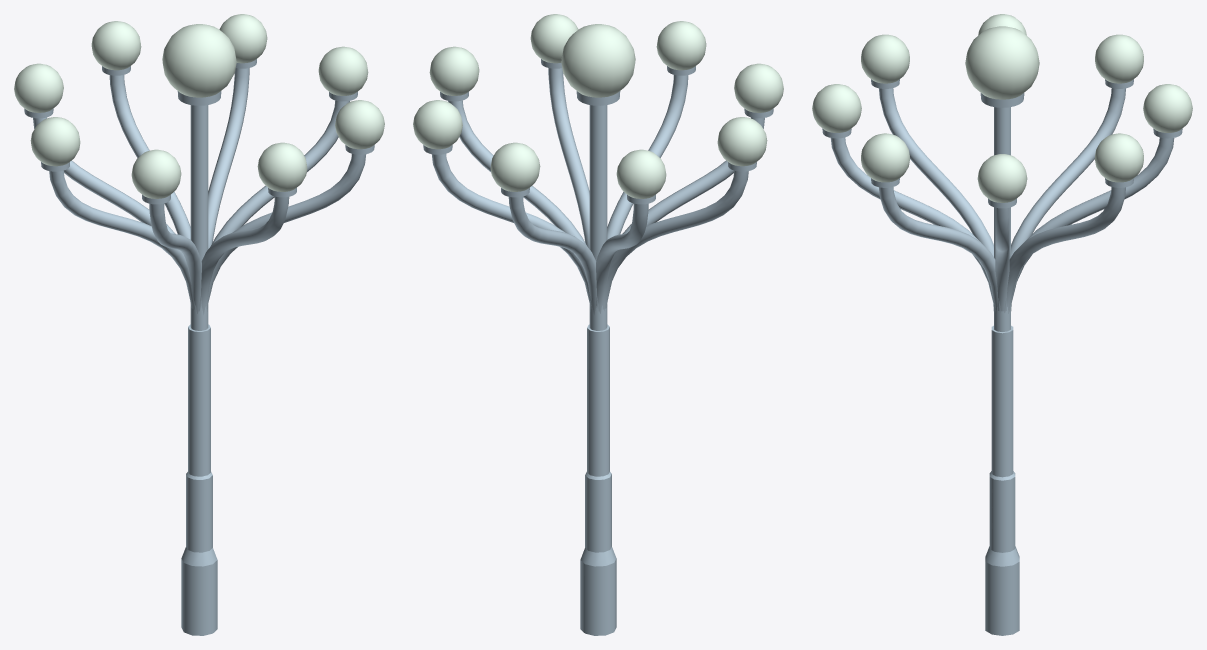
Rendered from streetlight_07.fbx.
3 views of the same model, side by side, from view 1: azimuth 30°, elevation 25°; view 2: azimuth 150°, elevation 25°; view 3: azimuth 270°, elevation 25° (orthographic).
Visible parts, largest first — view 1: pSphere13 (×8), streetlight_07, pSphere14, streetlight_extender, pCylinder37, pCylinder42, pCylinder43, pCylinder40, pCylinder41, pCylinder44, pCylinder39, pCylinder38; view 2: pSphere13 (×8), streetlight_07, pSphere14, streetlight_extender, pCylinder40, pCylinder42, pCylinder41, pCylinder37, pCylinder43, pCylinder44, pCylinder38, pCylinder39; view 3: pSphere13 (×7), streetlight_07, pSphere14, pCylinder38, pCylinder39, pCylinder37, pCylinder40, pCylinder41, pCylinder43, streetlight_extender, pCylinder44.
Part boxes in pixels (x1,y1,x2,y2): pSphere13 (×8): (14,14,384,204); streetlight_07: (181,324,217,635); pSphere14: (162,24,236,105); streetlight_extender: (190,105,208,330); pCylinder37: (208,68,249,248); pCylinder42: (49,171,195,309); pCylinder43: (199,196,289,314); pCylinder40: (205,154,366,311); pCylinder41: (109,75,190,239); pCylinder44: (211,100,349,245); pCylinder39: (149,203,201,313); pCylinder38: (33,117,191,308); pSphere13 (×8): (413,14,783,204); streetlight_07: (580,324,616,635); pSphere14: (561,24,635,105); streetlight_extender: (589,105,607,330); pCylinder40: (548,68,589,248); pCylinder42: (602,171,748,309); pCylinder41: (508,196,598,314); pCylinder37: (431,154,592,311); pCylinder43: (607,75,688,239); pCylinder44: (448,100,586,245); pCylinder38: (596,203,648,313); pCylinder39: (606,117,764,308); pSphere13 (×7): (812,34,1192,208); streetlight_07: (985,325,1019,635); pSphere14: (965,26,1039,107); pCylinder38: (1011,88,1125,256); pCylinder39: (879,88,993,256); pCylinder37: (1004,187,1125,313); pCylinder40: (879,187,1000,313); pCylinder41: (1009,137,1174,311); pCylinder43: (830,137,995,311); streetlight_extender: (994,107,1010,331); pCylinder44: (995,207,1009,311).
Bounding box in the file's own units: 4.54 × 7.88 × 4.54.
